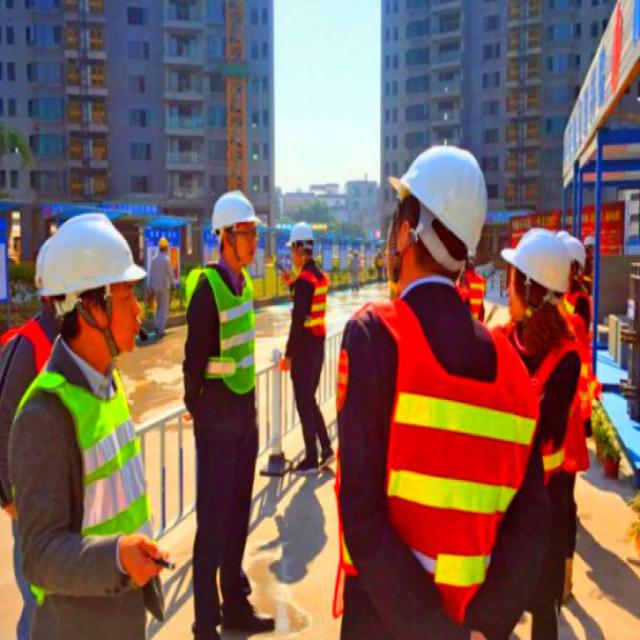helmet: (27, 193, 151, 364), (369, 145, 486, 281), (196, 178, 267, 279), (505, 225, 570, 317), (288, 216, 312, 276)
vest: (351, 295, 541, 570), (21, 386, 152, 557), (182, 282, 264, 389), (538, 312, 595, 454), (284, 274, 331, 330)
